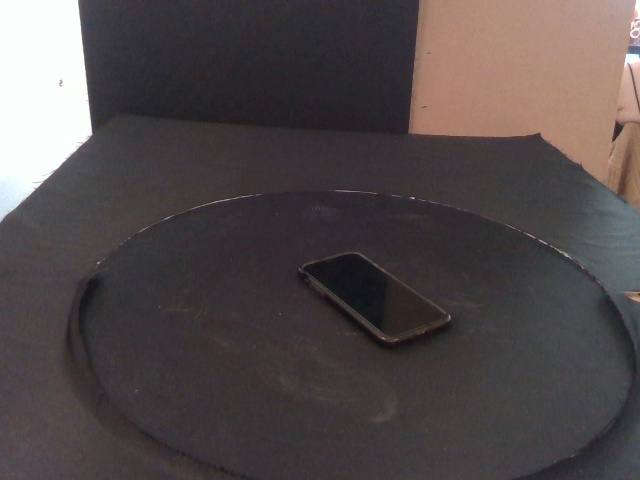phone: (297, 250, 451, 348)
